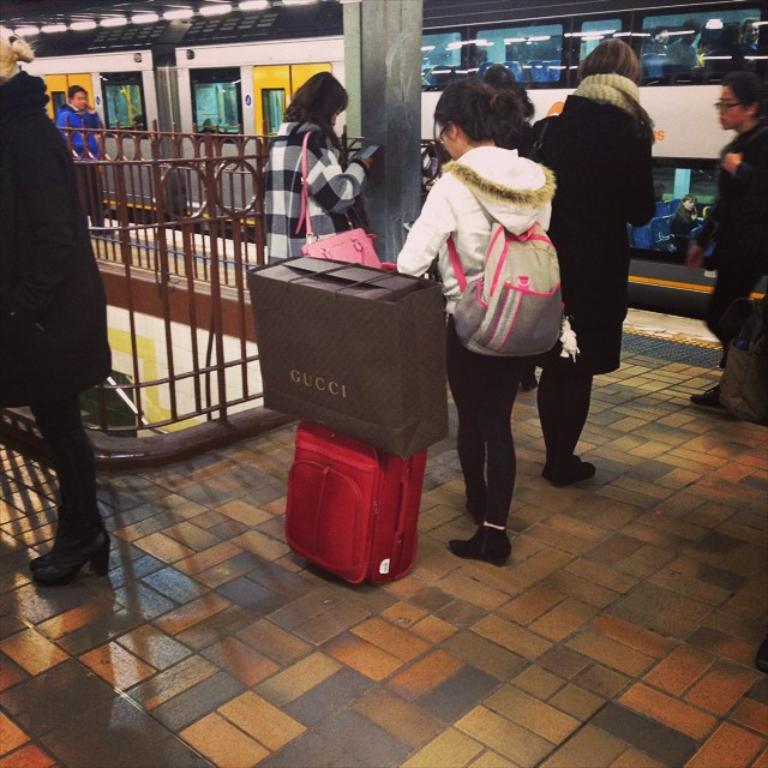Luggage-and-bags: (248, 250, 449, 462), (272, 420, 437, 593), (442, 211, 571, 361), (296, 137, 384, 275), (718, 290, 767, 434)
